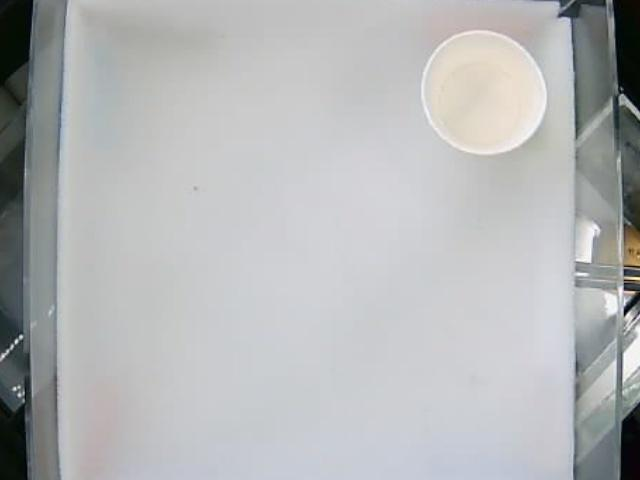Cup: (415, 28, 549, 160)
